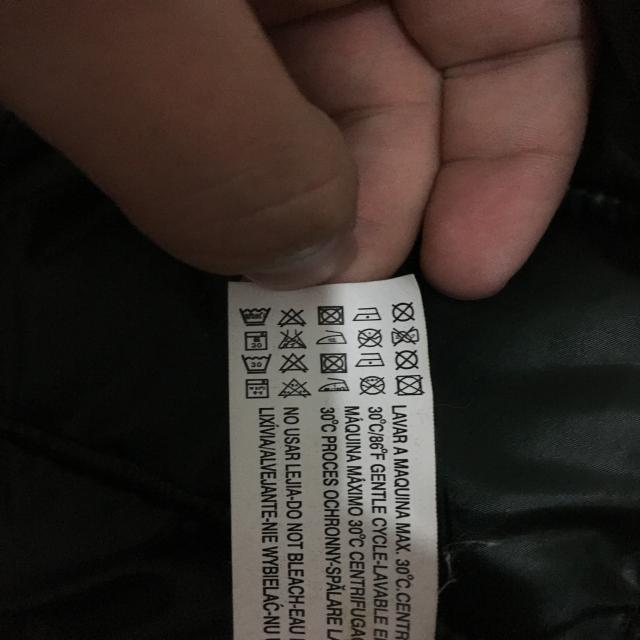30C: (238, 302, 273, 326), (238, 351, 273, 373), (243, 377, 273, 402), (245, 325, 270, 352)
DN_bleach: (278, 375, 311, 399), (277, 352, 310, 375), (278, 306, 307, 328)
DN_dry_clean: (393, 344, 423, 373), (358, 371, 386, 396), (391, 296, 417, 322), (356, 326, 385, 347)
DN_tumble_dry: (315, 300, 347, 329), (318, 350, 350, 375), (396, 371, 423, 398)
DN_wring: (390, 325, 425, 346)
iron: (317, 328, 348, 346)
iron_low: (317, 375, 350, 396), (353, 305, 385, 325), (358, 347, 388, 368)
